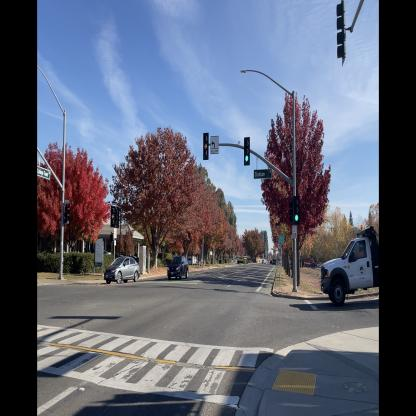green: (292, 194, 302, 227), (243, 134, 251, 168)
left-yellow: (202, 129, 210, 163), (109, 202, 116, 231)
red: (64, 197, 70, 227)
